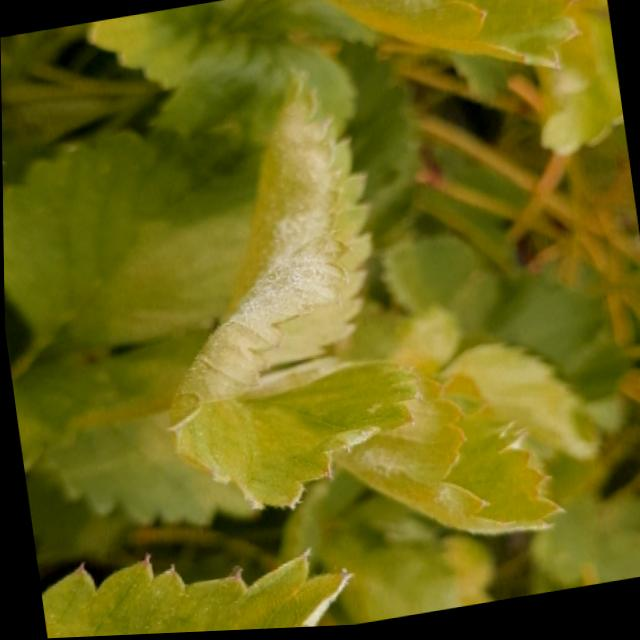Powdery Mildew Leaf: (152, 74, 368, 434), (329, 369, 563, 539), (171, 357, 418, 514), (38, 552, 351, 639), (320, 0, 581, 76)
